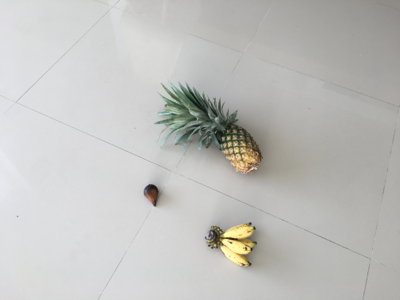banana: (203, 222, 257, 269)
pineapple: (155, 80, 261, 175)
snake fruit: (143, 184, 161, 208)
